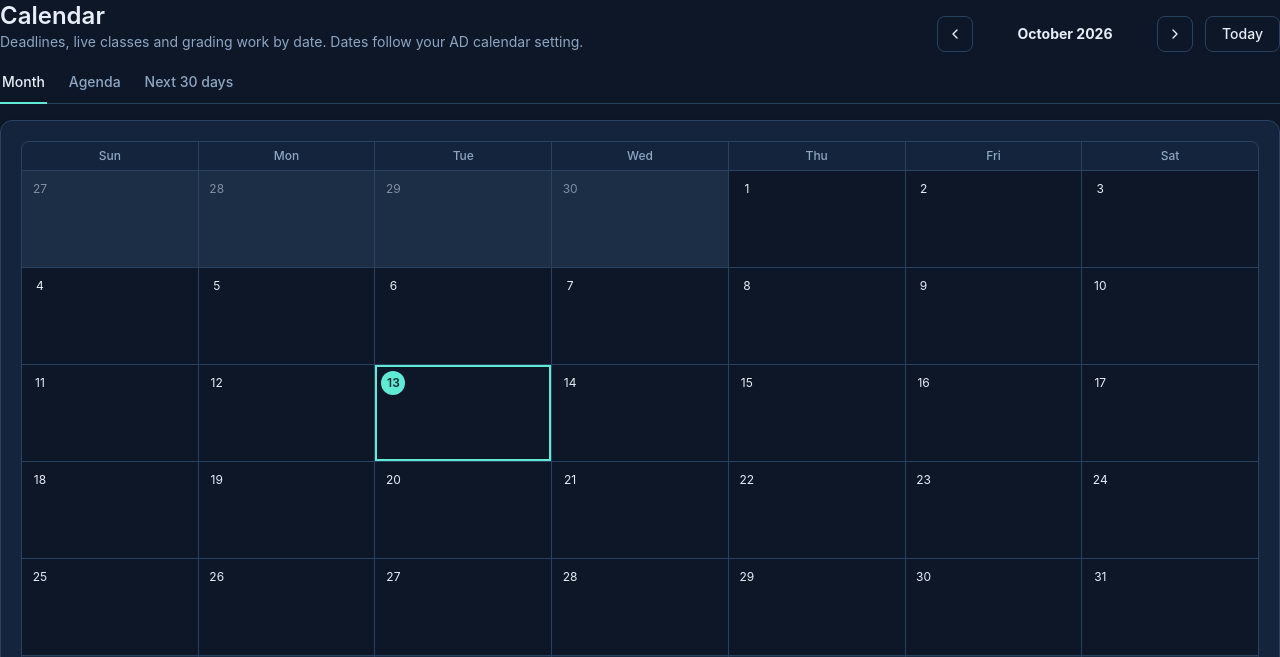
Test case: CalendarPage › says so when a period is empty
Click the tab "Agenda".
click(95, 86)  # box [67,68,123,104]
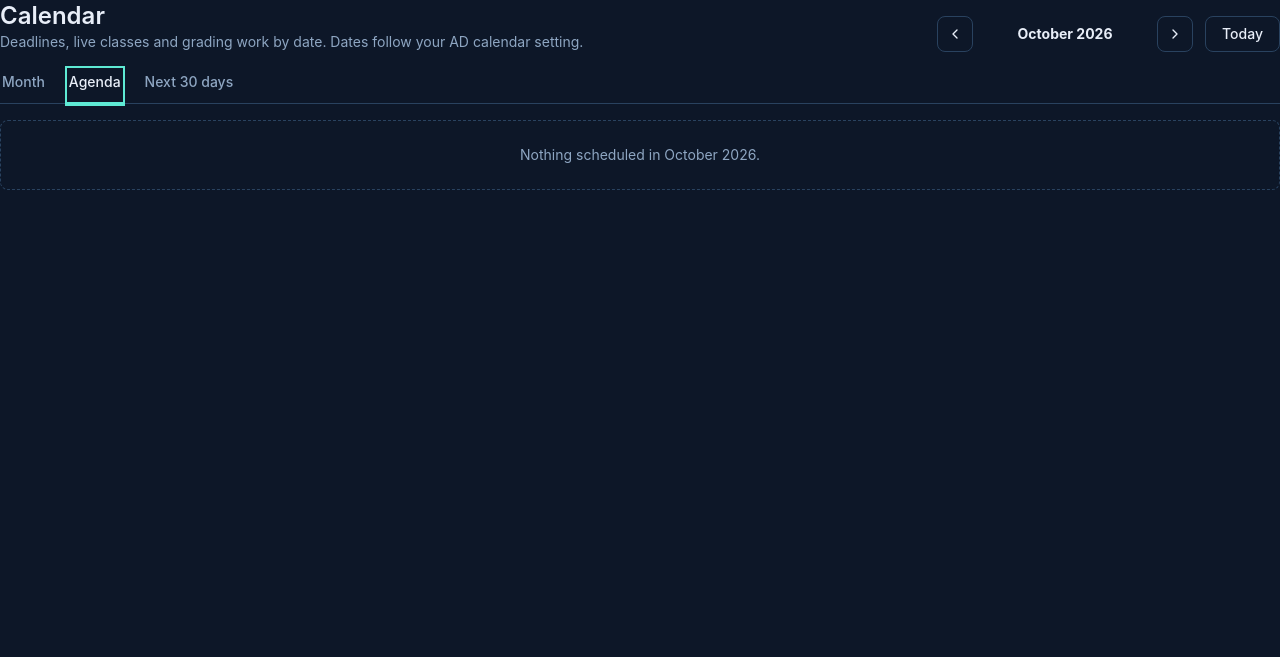
Check: the text "Nothing scheduled in October 2026." is shown, box [0,120,1279,190]
